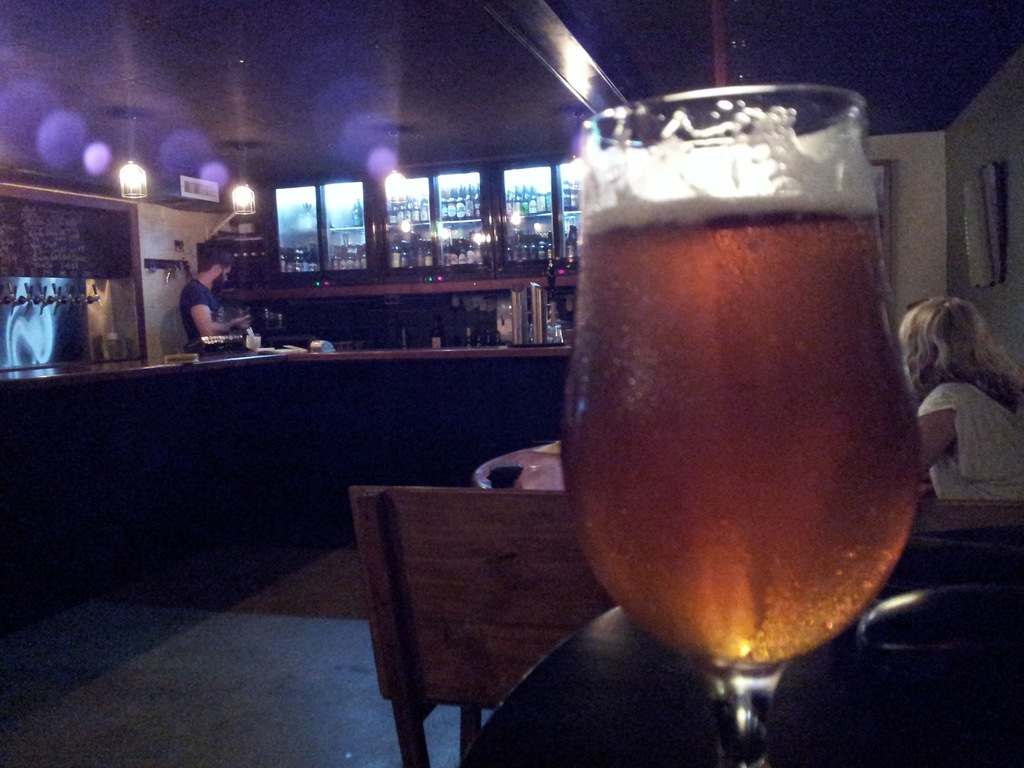Beer: (564, 198, 917, 670)
